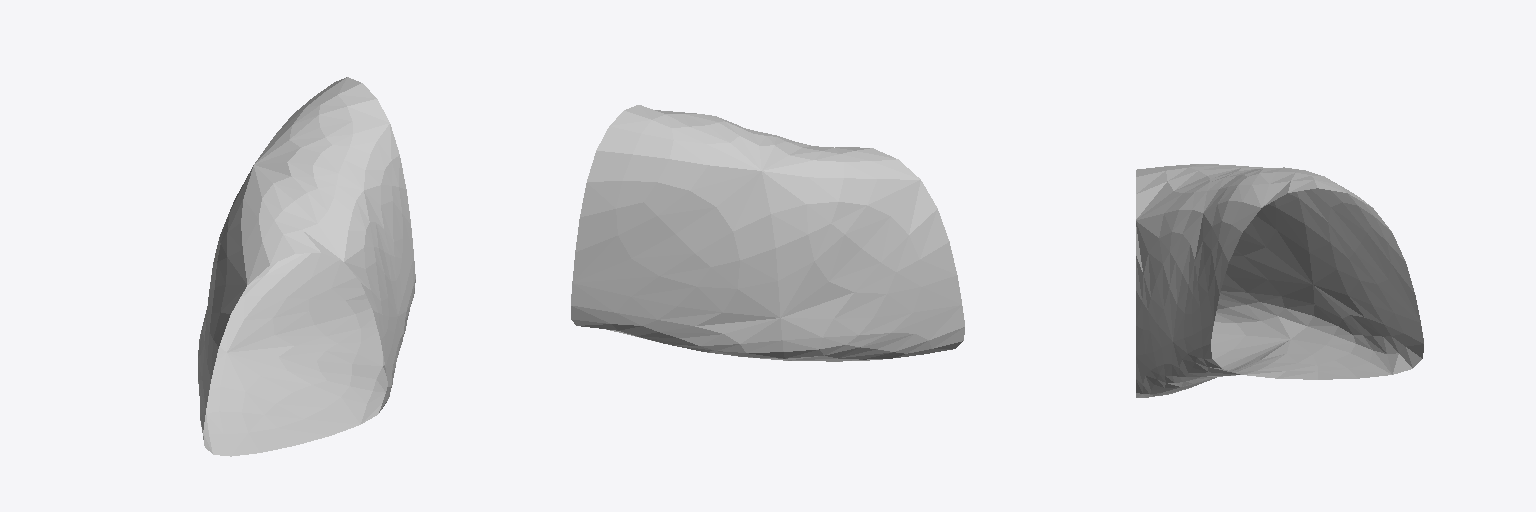
The model's file is cave_901r_2.obj.
3 views of the same model, side by side, from view 1: azimuth 30°, elevation 25°; view 2: azimuth 150°, elevation 25°; view 3: azimuth 270°, elevation 25° (orthographic).
Parts seen in each view (by area): view 1: cave_901r_2_Cube.079; view 2: cave_901r_2_Cube.079; view 3: cave_901r_2_Cube.079.
Part boxes in pixels (x1,y1,x2,y2): cave_901r_2_Cube.079: (198,77,415,456); cave_901r_2_Cube.079: (571,105,964,361); cave_901r_2_Cube.079: (1136,164,1423,397).
Bounding box in the file's own units: 7.94 × 7.81 × 7.94.